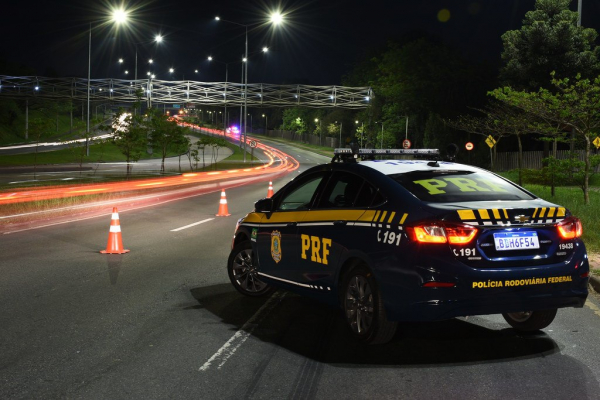car: (219, 145, 592, 349)
car_plate: (491, 225, 543, 252)
